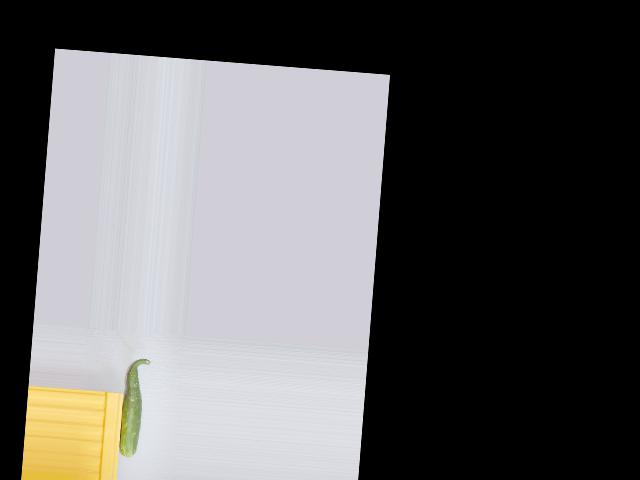cucumber: (118, 356, 150, 457)
